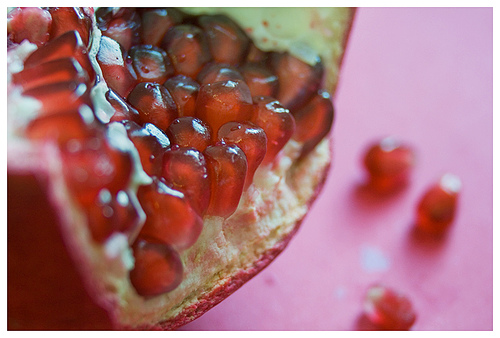pomogranate: (7, 7, 357, 329)
